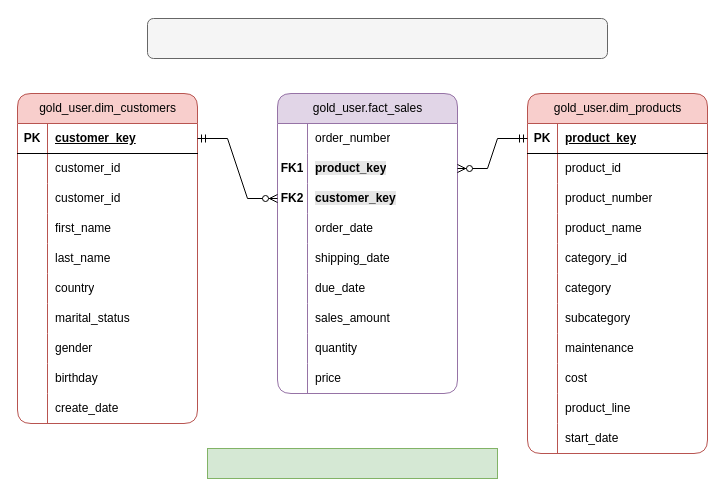
The diagram is 725 pixels wide and 496 high, and some of its shapes have lost their labels. The centre of each missing label's shape, as x and y in pixels:
"DATA MODEL" belongs at point 377,38.
"Muhammad Hamza Habib" belongs at point 352,463.
